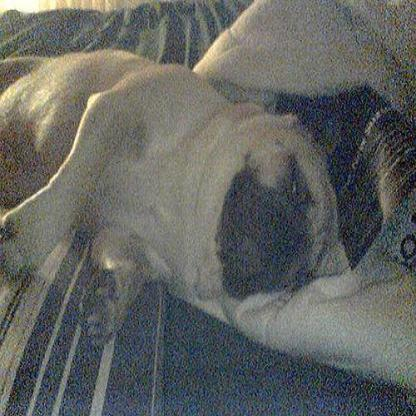pug: (0, 46, 348, 347)
